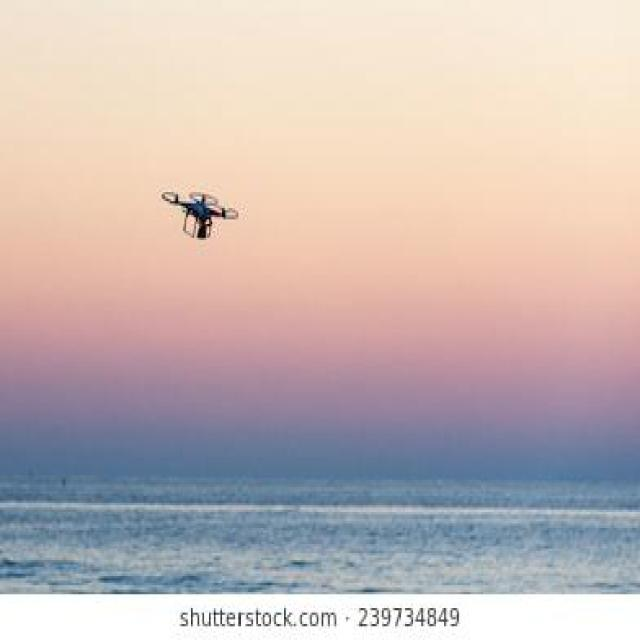drone: (161, 170, 244, 252)
